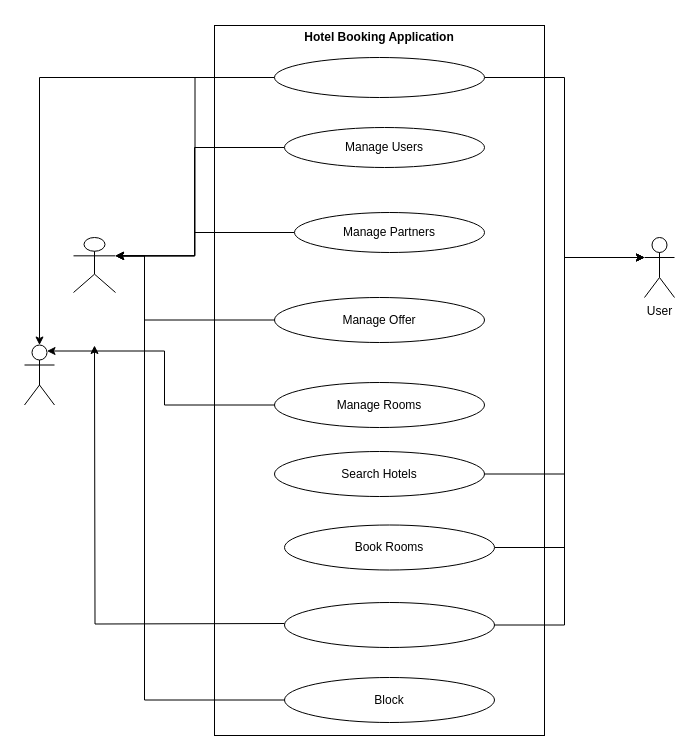
The diagram is 692 pixels wide and 753 high, and some of its shapes have lost their labels. The shapes that lost their labels are listed below. From the top down, each one's centre as x and y in pixels, then its label:
(x=379, y=77): Sign-in and signup for system
(x=94, y=264): Admin
(x=39, y=374): Partners
(x=389, y=625): manage complaints
